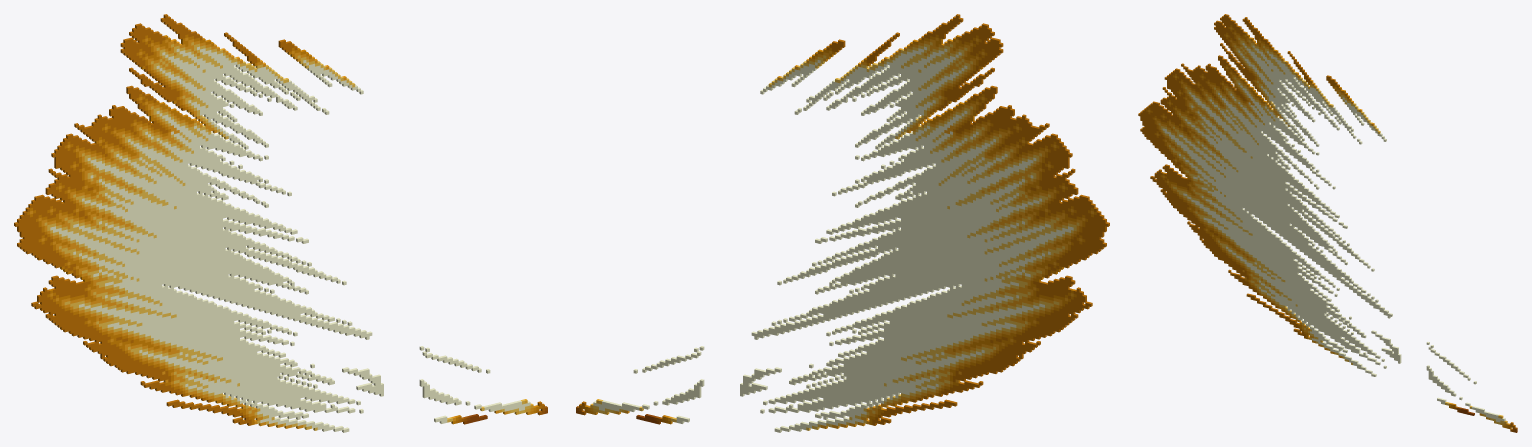
File: Fight_210_2_08_fx.obj
3 views of the same model, side by side, from view 1: azimuth 30°, elevation 25°; view 2: azimuth 150°, elevation 25°; view 3: azimuth 330°, elevation 25° (orthographic). The views are drawn at different scales.
Size of the model in its own units: 18.5 by 16.3 by 0.1.
Materials: 1 (1 with a texture image).
